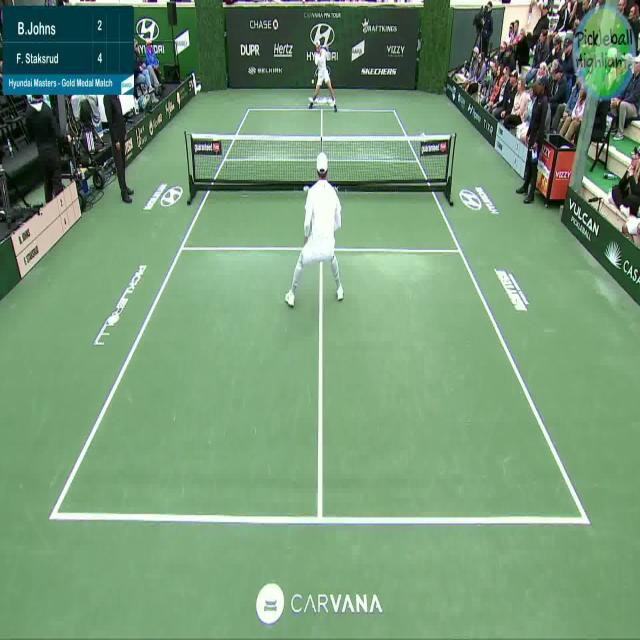ball: (311, 78, 314, 84)
